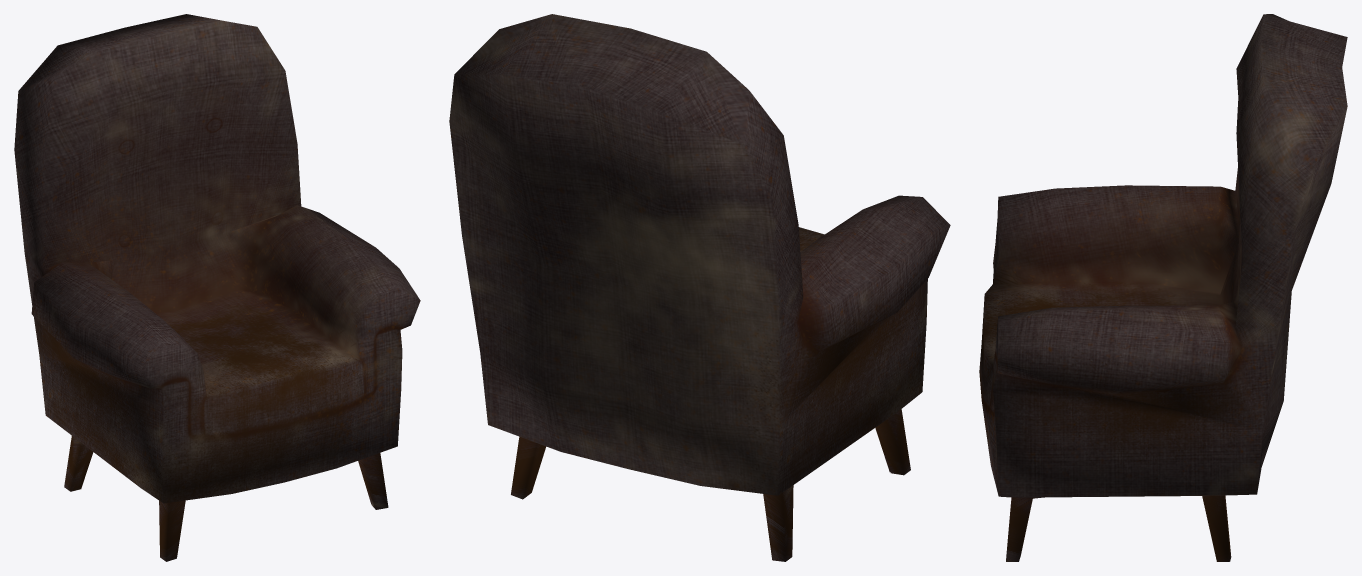
The model's file is stul.fbx.
3 views of the same model, side by side, from view 1: azimuth 30°, elevation 25°; view 2: azimuth 150°, elevation 25°; view 3: azimuth 270°, elevation 25° (orthographic). The views are drawn at different scales.
Visible parts, largest first — view 1: chair_low; view 2: chair_low; view 3: chair_low.
Part boxes in pixels (x1,y1,x2,y2): chair_low: [14, 14, 420, 561]; chair_low: [449, 14, 950, 561]; chair_low: [979, 14, 1347, 561].
Size of the model in its own units: 592 by 775 by 565.
